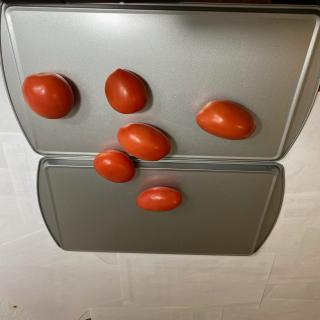Tomato: (22, 72, 74, 119), (196, 100, 256, 140), (117, 123, 171, 161), (105, 68, 148, 114), (93, 149, 136, 183), (136, 186, 182, 212)
